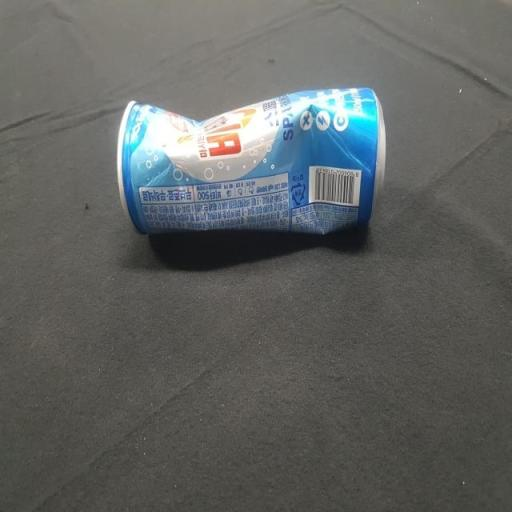metal: (117, 69, 394, 270)
